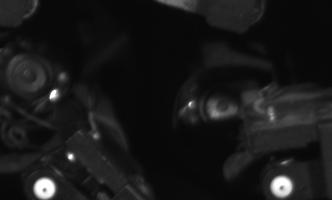fiber: (267, 172, 297, 200), (30, 175, 58, 200)
